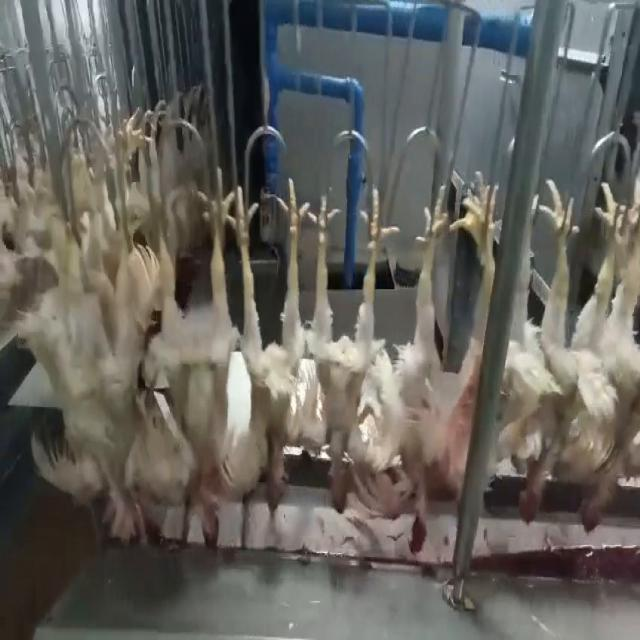chicken: (514, 169, 629, 527), (352, 161, 456, 548), (129, 162, 228, 548), (302, 172, 385, 517), (231, 169, 308, 521), (582, 171, 640, 540), (445, 154, 504, 514), (80, 167, 128, 545)
